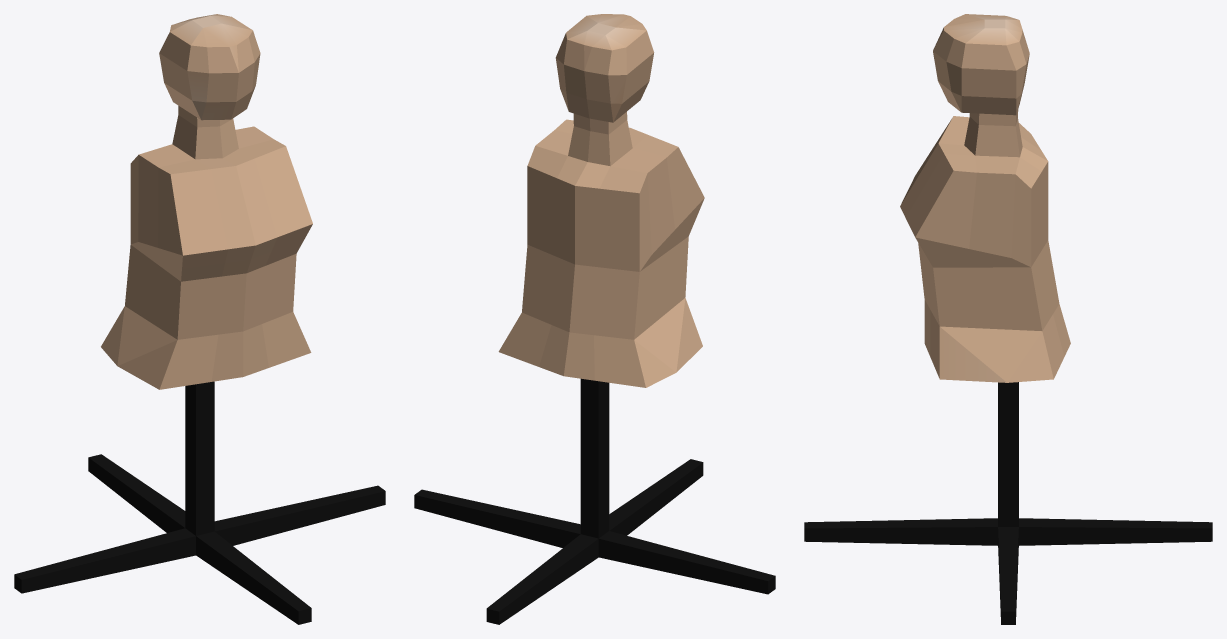
The model's file is Mannequin.fbx.
The picture shows the model from 3 angles, left to right: view 1: azimuth 30°, elevation 25°; view 2: azimuth 150°, elevation 25°; view 3: azimuth 270°, elevation 25°; orthographic projection. The views are drawn at different scales.
Visible parts, largest first — view 1: Cube; view 2: Cube; view 3: Cube.
Boxes of the visible parts, box(x1,y1,x2,y2) form: Cube: box(14, 14, 385, 624); Cube: box(414, 14, 775, 624); Cube: box(804, 14, 1212, 624).
Bounding box in the file's own units: 806 × 1126 × 806.
Materials: 1 (1 with a texture image).
